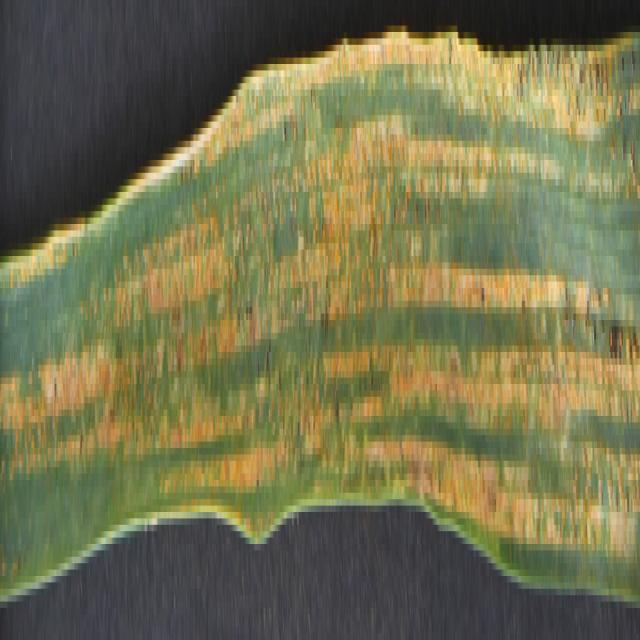leaf rust: (0, 6, 640, 575)
